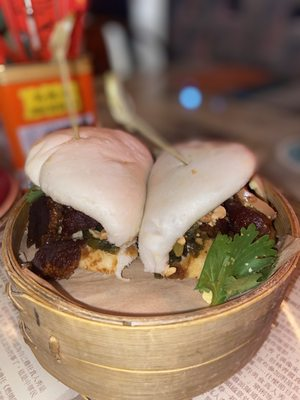curry: (193, 223, 279, 305)
soup: (19, 124, 154, 280)
sushi: (4, 106, 300, 399)
